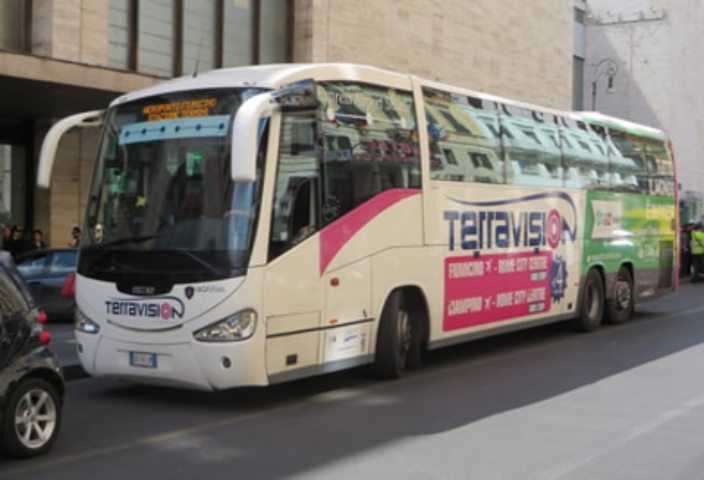bus: (39, 47, 689, 378)
